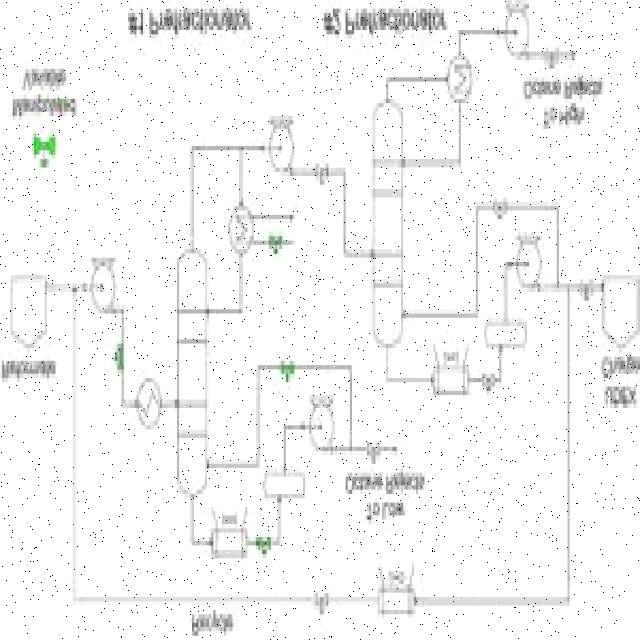Centrifugal Pump: (262, 106, 302, 192), (495, 0, 537, 78), (82, 248, 122, 322), (512, 225, 544, 304), (306, 392, 334, 465)
